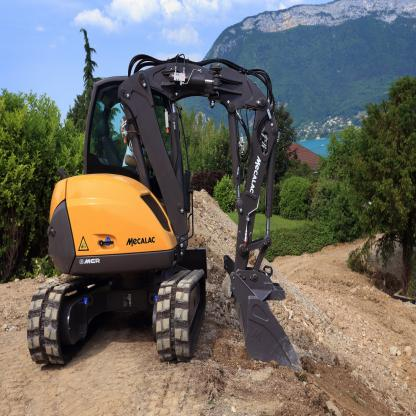excavator: (32, 51, 307, 374)
